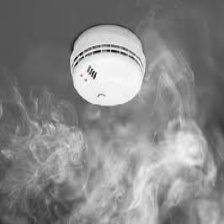smoke: (20, 129, 215, 212)
